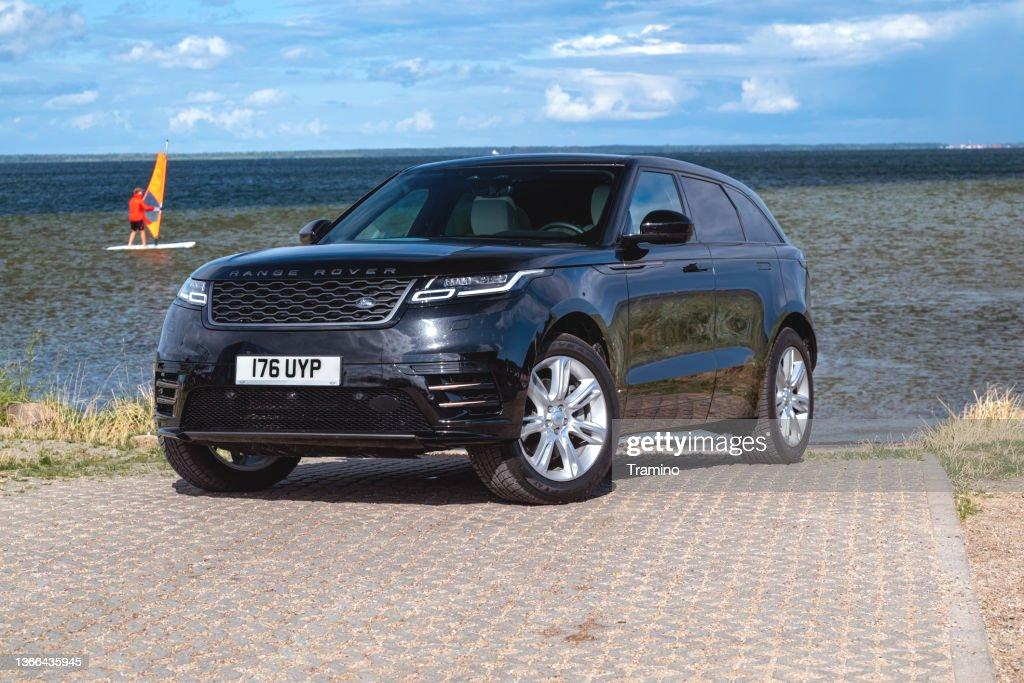range rover: (224, 258, 408, 286)
